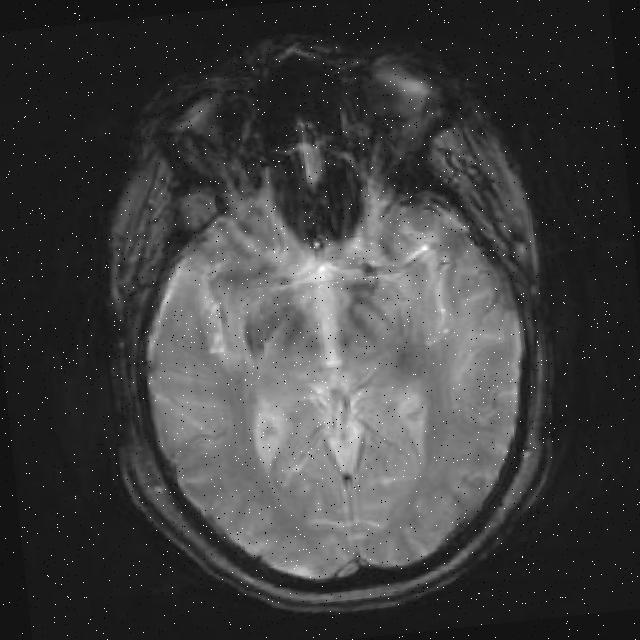EMCI: (404, 242, 506, 402), (196, 245, 258, 427)
